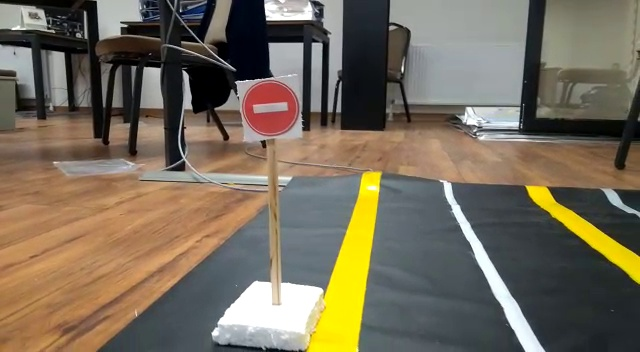girisi_olmayan_yol: (239, 76, 299, 141)
